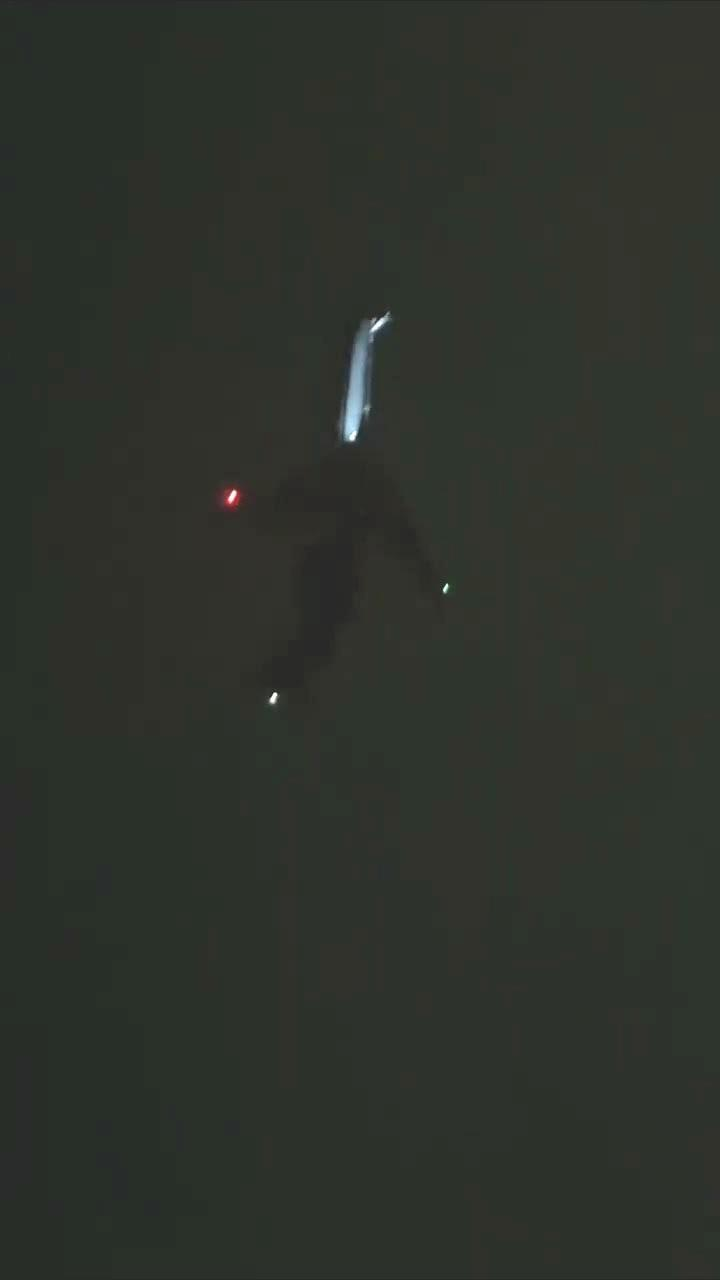Plane: (194, 279, 495, 734)
